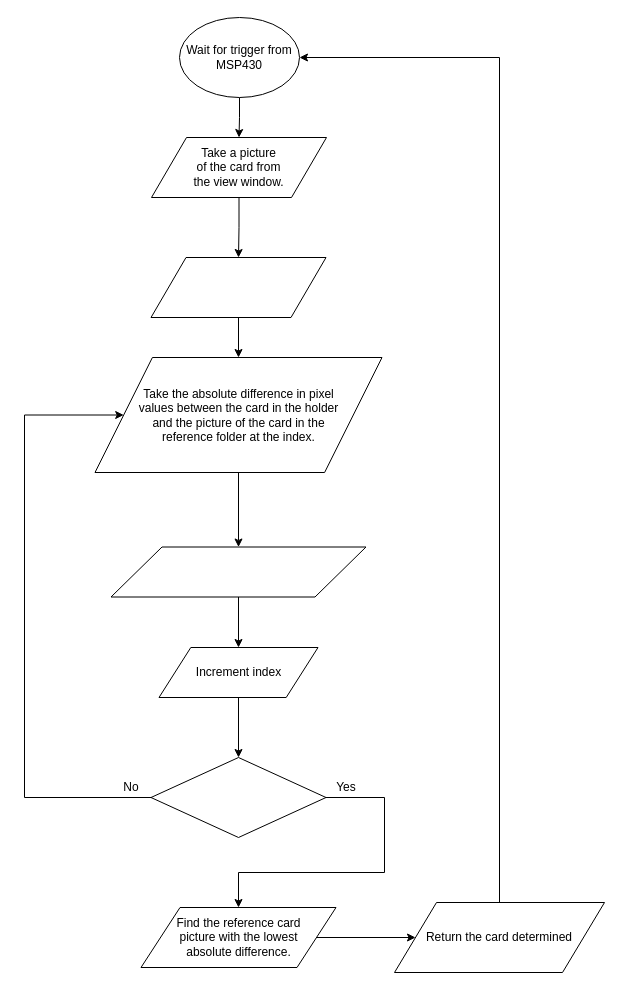
The diagram is 622 pixels wide and 990 high, and some of its shapes have lost their labels. The shapes that lost their labels are listed below. From the top down, each one's centre as x and y in pixels, then its label:
At (238,287): "Perform image manipulation algorithm on image.".
At (238,571): "Store the pixel difference in list".
At (238,797): "Iterated through all cards yet?".
